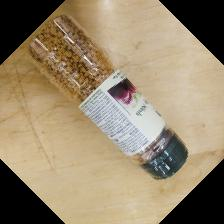TayNinh_green: (27, 14, 189, 181)
